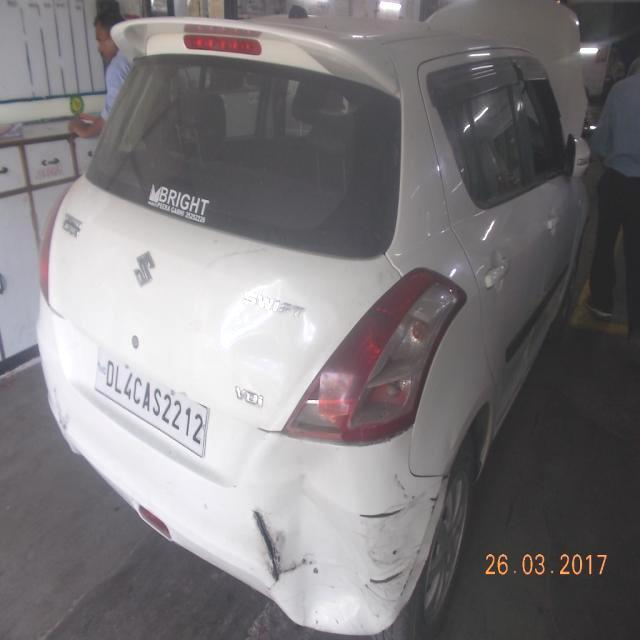minor: (247, 433, 394, 633), (212, 264, 328, 381)
moderate: (287, 270, 419, 445), (363, 484, 423, 520), (371, 559, 416, 585)
